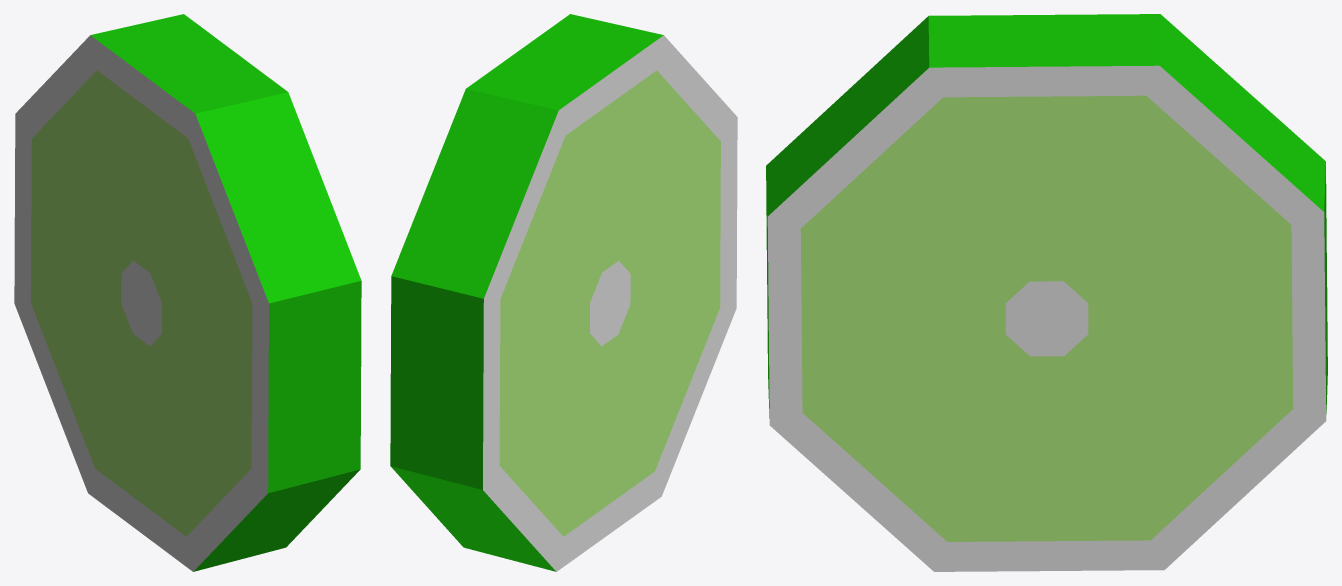
The model's file is lime03.gltf.
3 renders of one model, left to right at view 1: azimuth 30°, elevation 25°; view 2: azimuth 150°, elevation 25°; view 3: azimuth 270°, elevation 25°, orthographic. The views are drawn at different scales.
Visible parts, largest first — view 1: Cylinder.001; view 2: Cylinder.001; view 3: Cylinder.001.
Boxes of the visible parts, x1,y1,x2,y2 form: Cylinder.001: (14, 14, 361, 571); Cylinder.001: (390, 14, 737, 571); Cylinder.001: (766, 14, 1327, 571).
Size of the model in its own units: 0.00753 by 0.0356 by 0.0356.
1 material, 1 textured.
